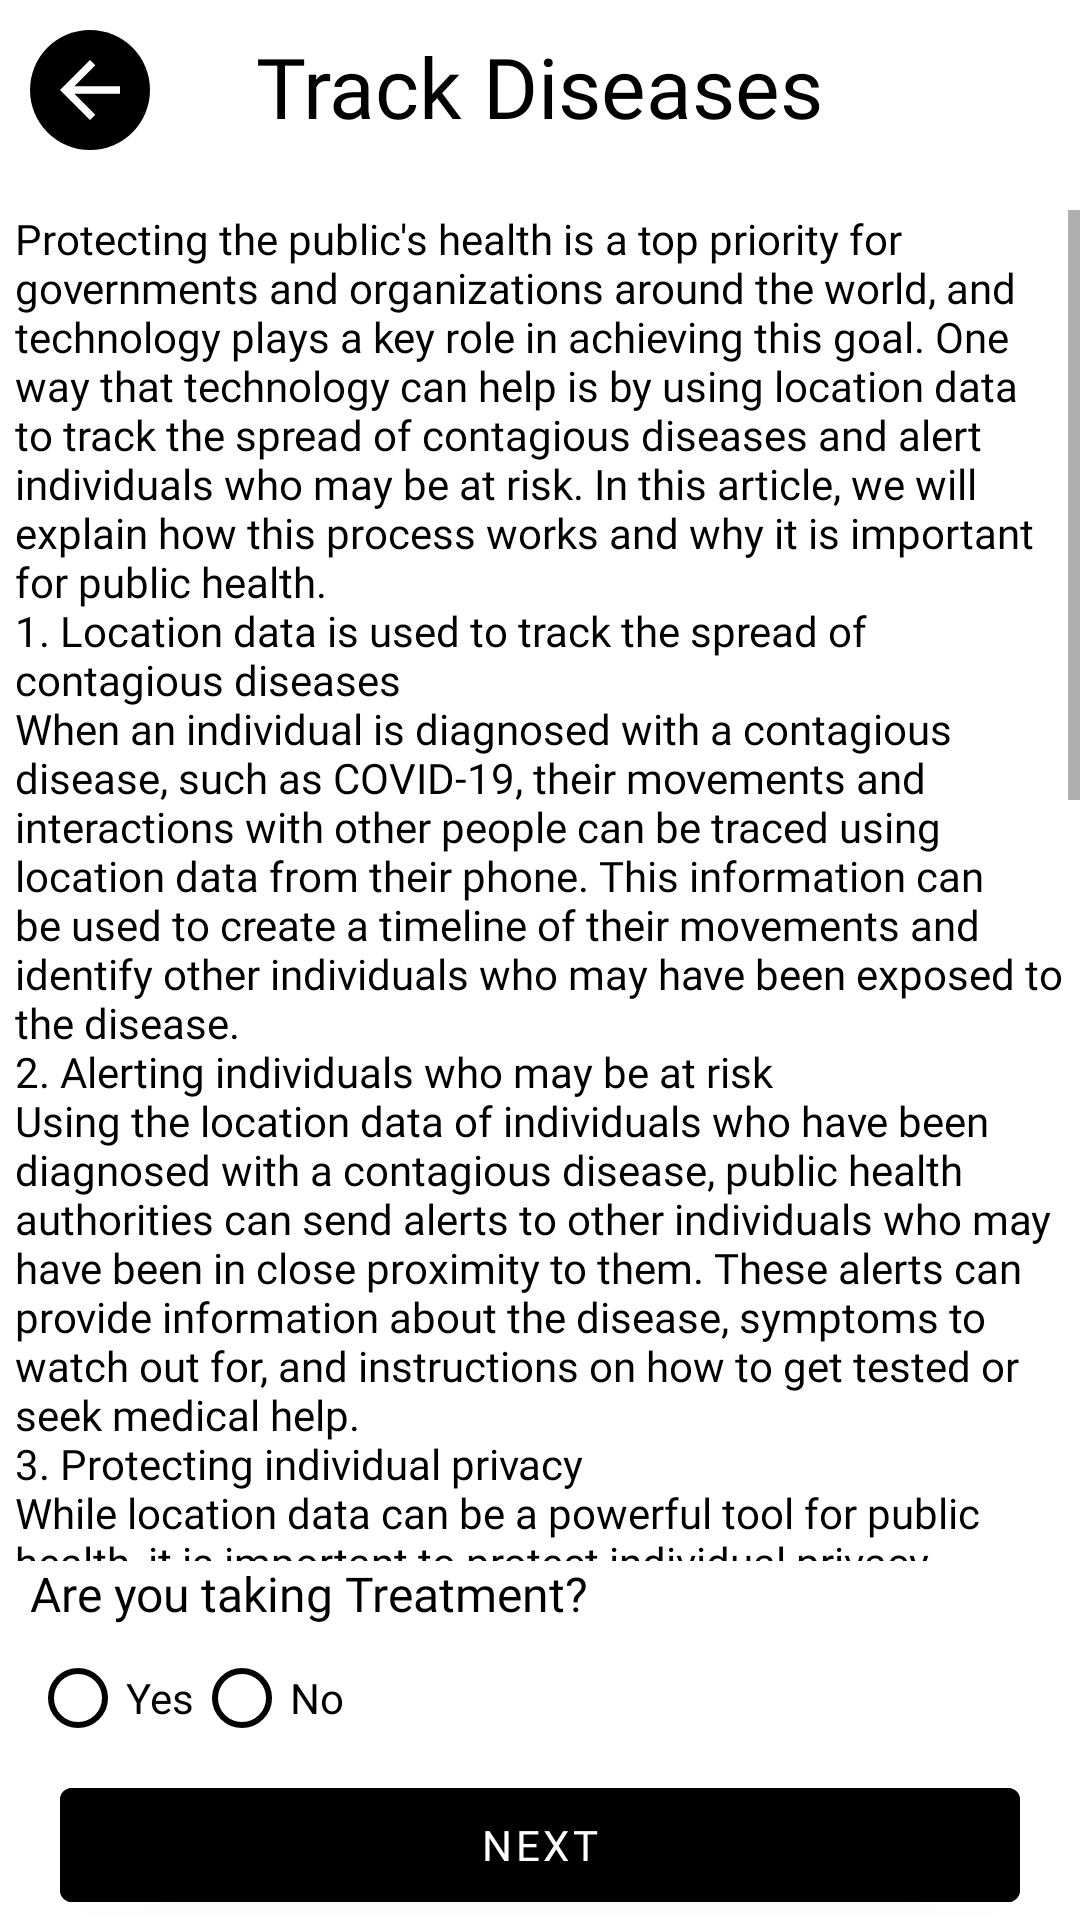

Where to tap for icons on this 1080px×1920px app screen, as [x,y]:
arrow back: [90,90]
